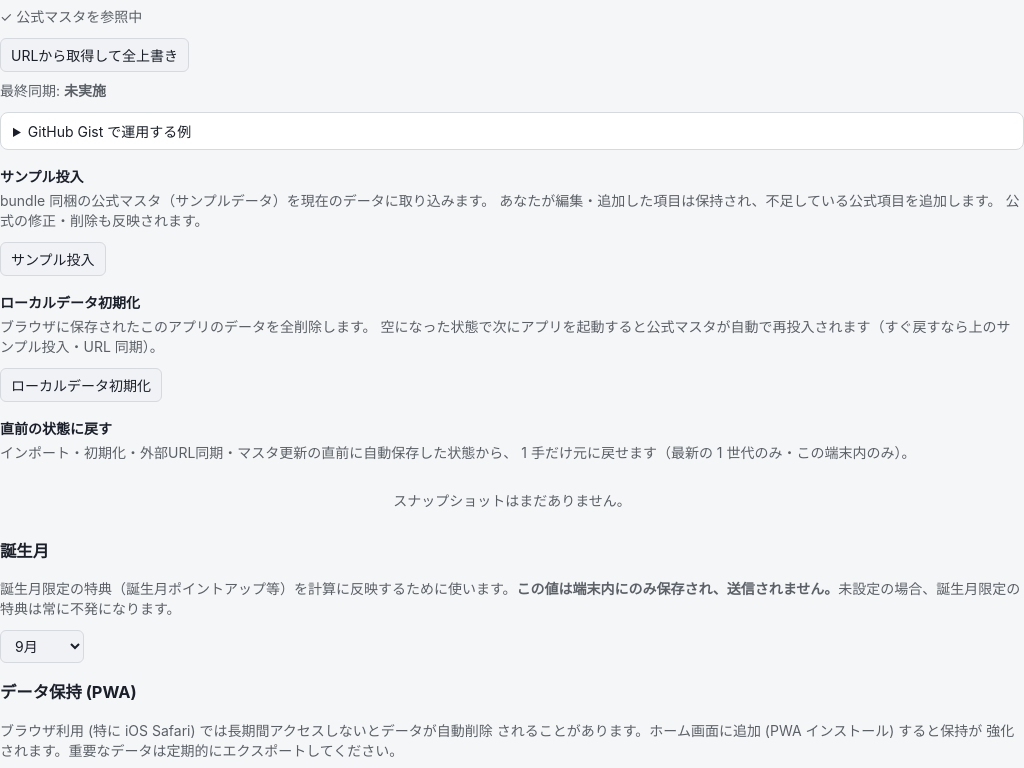
Test: SettingsScreen 直前の状態に戻す (PR-4a / N-4) › 初期化 (reset) 実行後にボタンが『初期化前』ラベルで即時出現する (mount 後 refresh)
(page scrolled)
Note: ローカルデータ初期化 → 確認 → 初期化。
Click the button "ローカルデータ初期化" at (81,385), box 0,368 -> 162,402
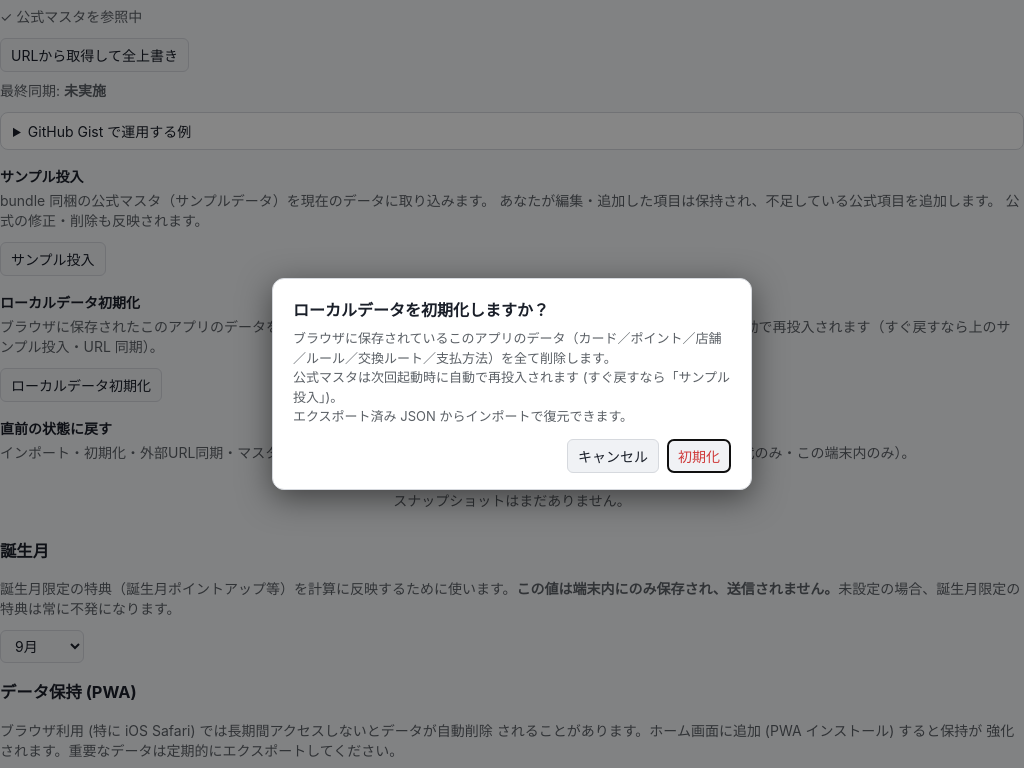
Click the button "初期化" at (699,456), box 667,439 -> 731,473
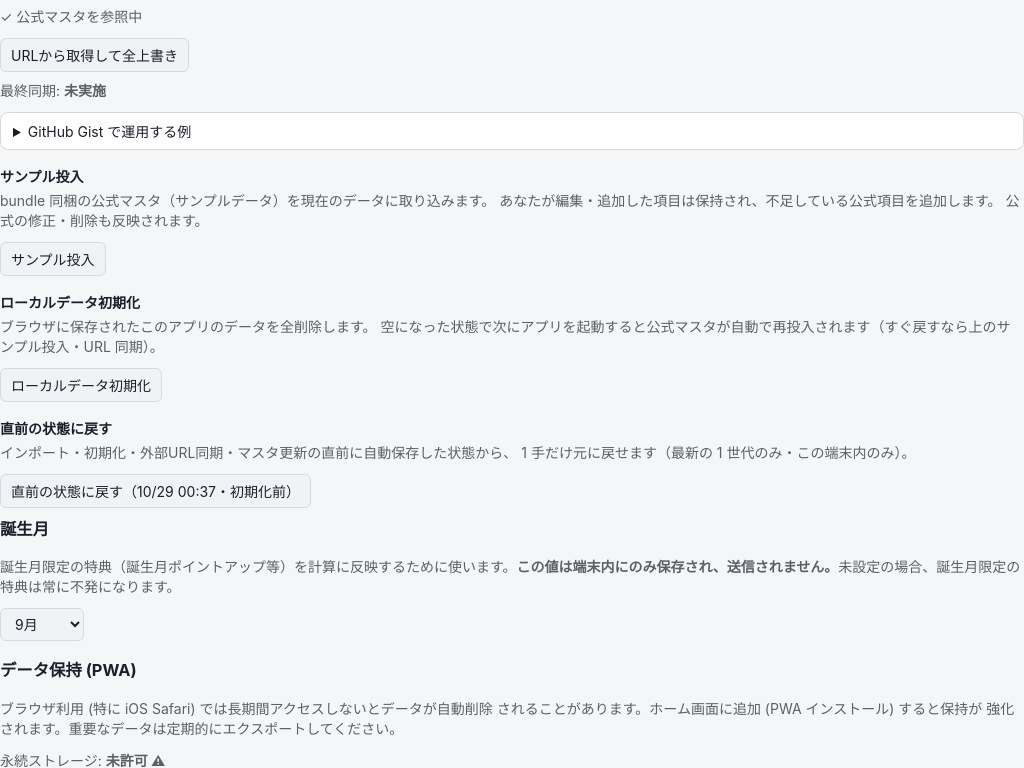
expect the button "直前の状態に戻す（10/29 00:37・初期化前）" is shown: met, box 0,474 -> 311,508
